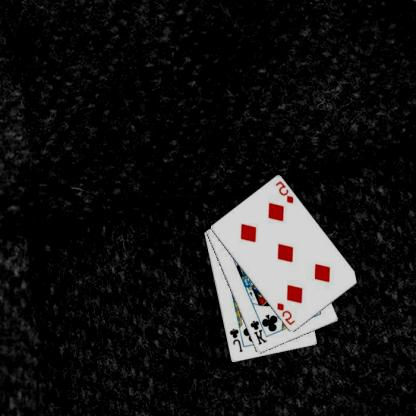5D: (276, 300, 298, 327), (274, 179, 296, 205)
JC: (228, 326, 245, 354)
KC: (249, 313, 270, 346)
